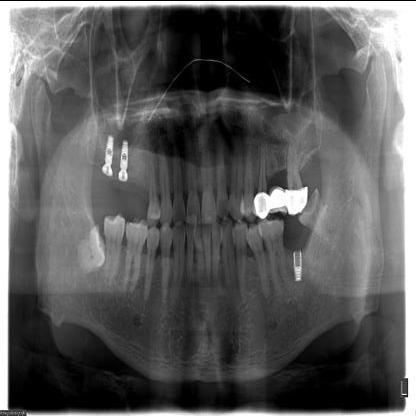Bicon: (292, 245, 305, 287), (104, 132, 115, 167), (119, 137, 131, 169)
